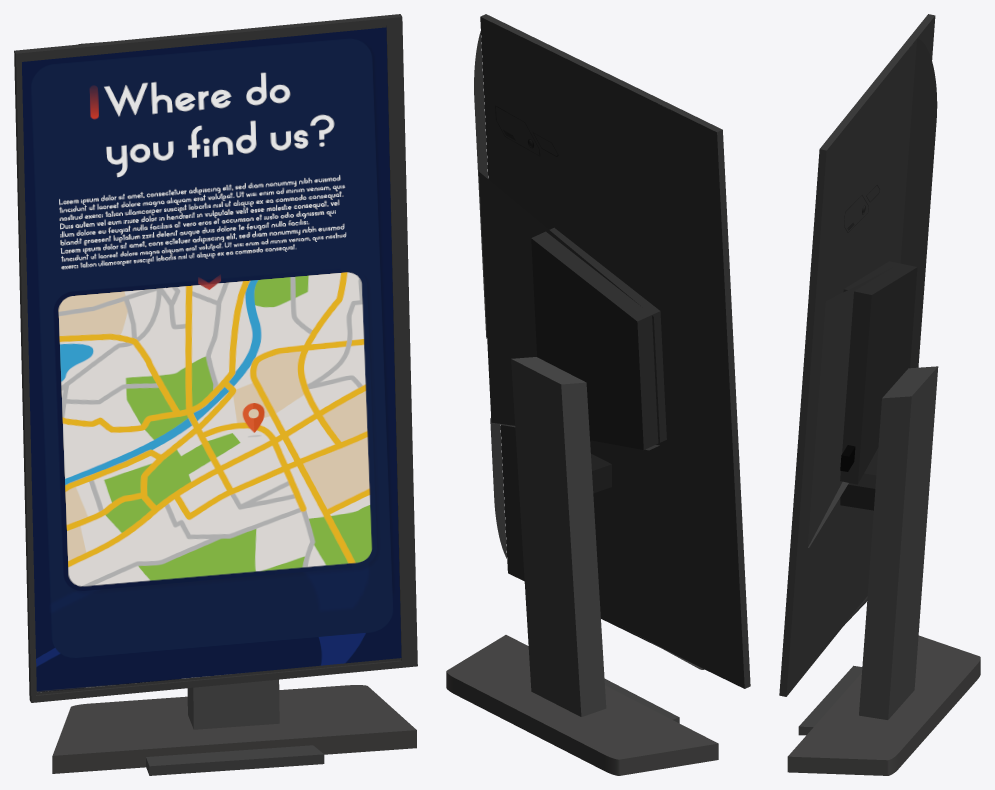
The model's file is MonitorVerticalTexture.glb.
3 views of the same model, side by side, from view 1: azimuth 30°, elevation 25°; view 2: azimuth 150°, elevation 25°; view 3: azimuth 270°, elevation 25° (orthographic). The views are drawn at different scales.
Parts seen in each view (by area): view 1: MY SCREEN.001, Cube.079, Cube.096, Cube.095, Cube.097; view 2: Cube.079, Cube.095, Cube.092, Cube.096, Cube.082, Cube.093, Cube.097; view 3: Cube.079, Cube.095, Cube.082, Cube.096, Cube.092, Cube.097, Cube.093.
Part boxes in pixels (box(x1,y1,x2,y2)): MY SCREEN.001: box(22, 27, 401, 692); Cube.079: box(14, 14, 417, 702); Cube.096: box(52, 685, 416, 773); Cube.095: box(187, 679, 279, 729); Cube.097: box(146, 745, 324, 775); Cube.079: box(480, 14, 750, 688); Cube.095: box(511, 357, 606, 716); Cube.092: box(531, 227, 666, 449); Cube.096: box(446, 635, 718, 775); Cube.082: box(474, 31, 704, 669); Cube.093: box(591, 454, 611, 493); Cube.097: box(604, 679, 679, 723); Cube.079: box(779, 14, 935, 696); Cube.095: box(859, 366, 938, 719); Cube.082: box(808, 38, 937, 655); Cube.096: box(787, 635, 980, 775); Cube.092: box(840, 261, 917, 484); Cube.097: box(798, 665, 862, 735); Cube.093: box(840, 473, 876, 510).
Size of the model in its own units: 2.23 by 4.53 by 1.32.
Materials: 10 (2 with a texture image).
